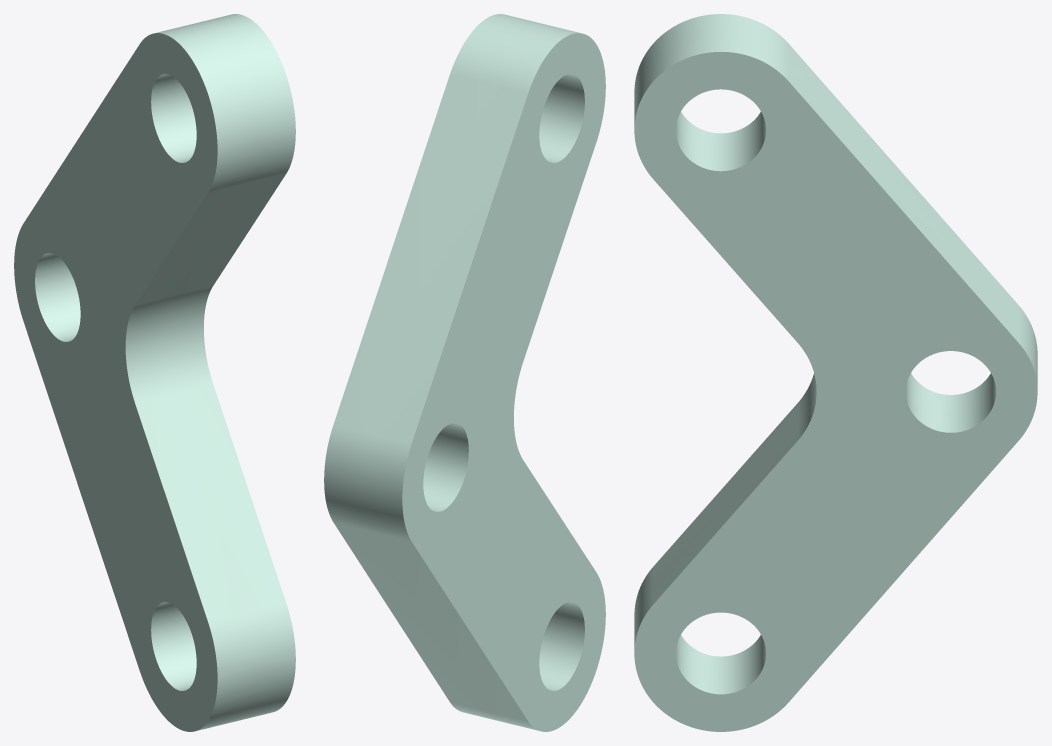
3 renders of one model, left to right at view 1: azimuth 30°, elevation 25°; view 2: azimuth 150°, elevation 25°; view 3: azimuth 270°, elevation 25°, orthographic.
Parts seen in each view (by area): view 1: Renderer Node; view 2: Renderer Node; view 3: Renderer Node.
Part boxes in pixels (box(x1,y1,x2,y2)): Renderer Node: box(14, 14, 295, 731); Renderer Node: box(324, 14, 605, 731); Renderer Node: box(634, 14, 1037, 731).
Bounding box in the file's own units: 0.1094 × 0.9169 × 0.4926.
